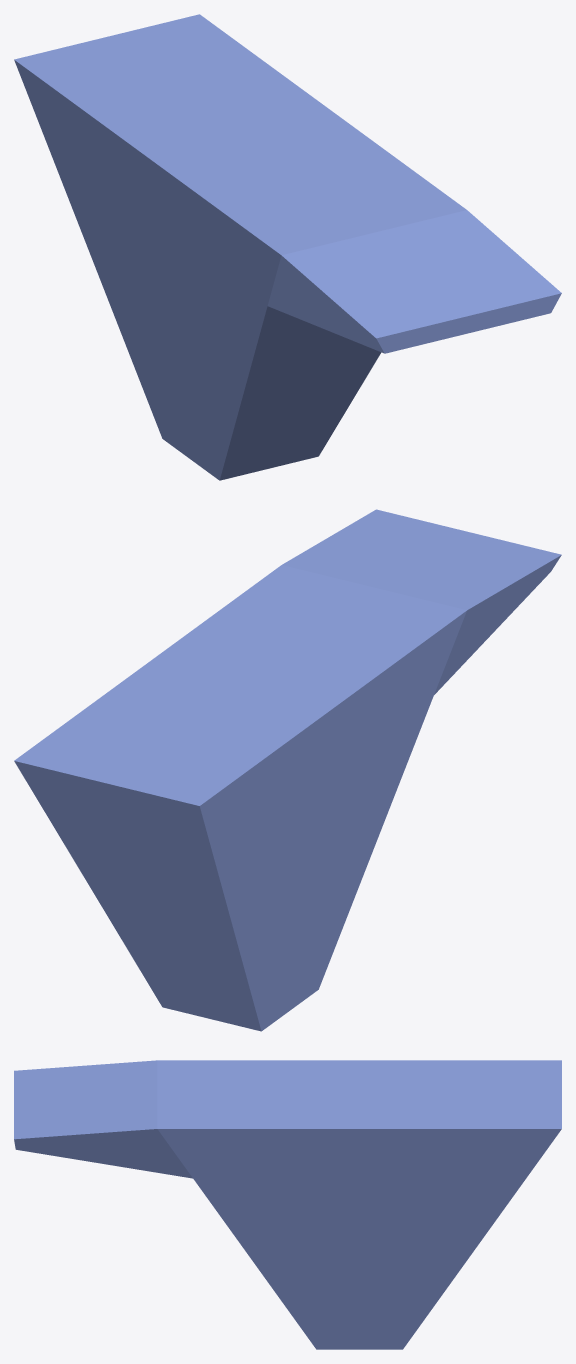
File: señalizador de giro.fbx
3 renders of one model, top to bottom at view 1: azimuth 30°, elevation 25°; view 2: azimuth 150°, elevation 25°; view 3: azimuth 270°, elevation 25°, orthographic. The views are drawn at different scales.
Visible parts, largest first — view 1: Sphere.001; view 2: Sphere.001; view 3: Sphere.001.
Boxes of the visible parts, x1,y1,x2,y2 form: Sphere.001: [14, 14, 561, 480]; Sphere.001: [14, 509, 561, 1031]; Sphere.001: [14, 1060, 561, 1349].
Size of the model in its own units: 3.6 by 5.8 by 12.16.
